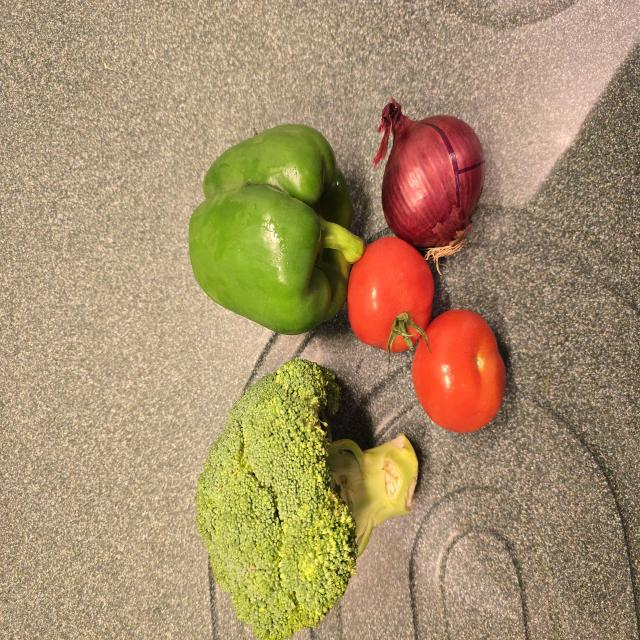Bell Pepper: (189, 123, 363, 334)
Broccoli: (195, 359, 421, 640)
Onion: (374, 99, 485, 259)
Tomato: (412, 309, 505, 432), (347, 237, 434, 352)
